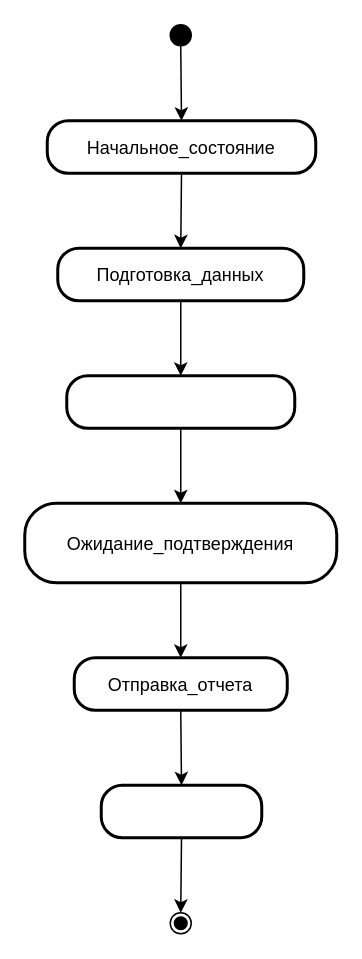
Some shapes in this 362 by 959 pixel diagram are drawn without their labels. The shapes that lost their labels are listed below. From the top down, each one's centre as x and y in pixels, then its label:
(180,401): Генерация_отчета
(180,810): Завершение
